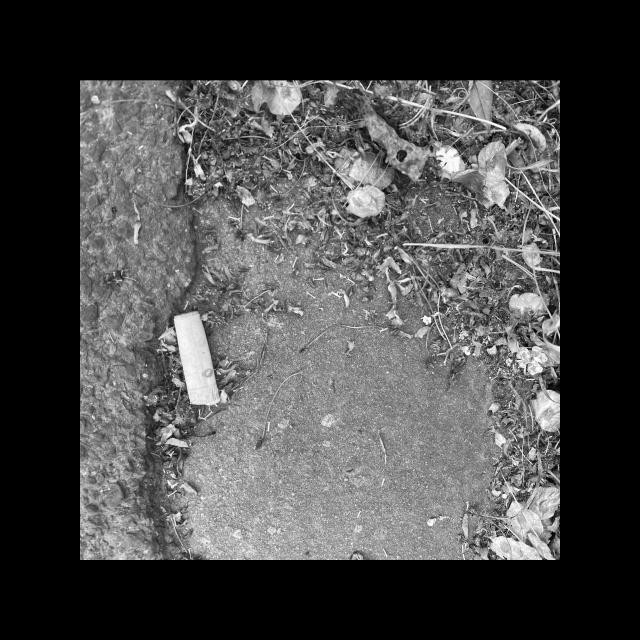cigarette: (173, 310, 220, 406)
